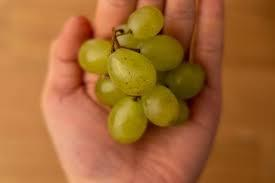Grape Unripe: (79, 6, 203, 143)
